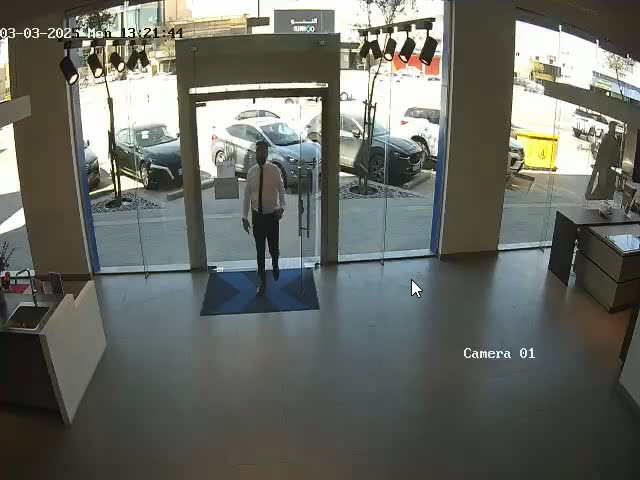employee: (240, 141, 286, 297)
